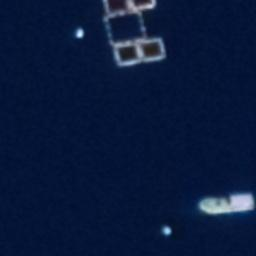square_solid: (100, 7, 150, 45), (110, 36, 144, 69), (135, 32, 169, 62)
